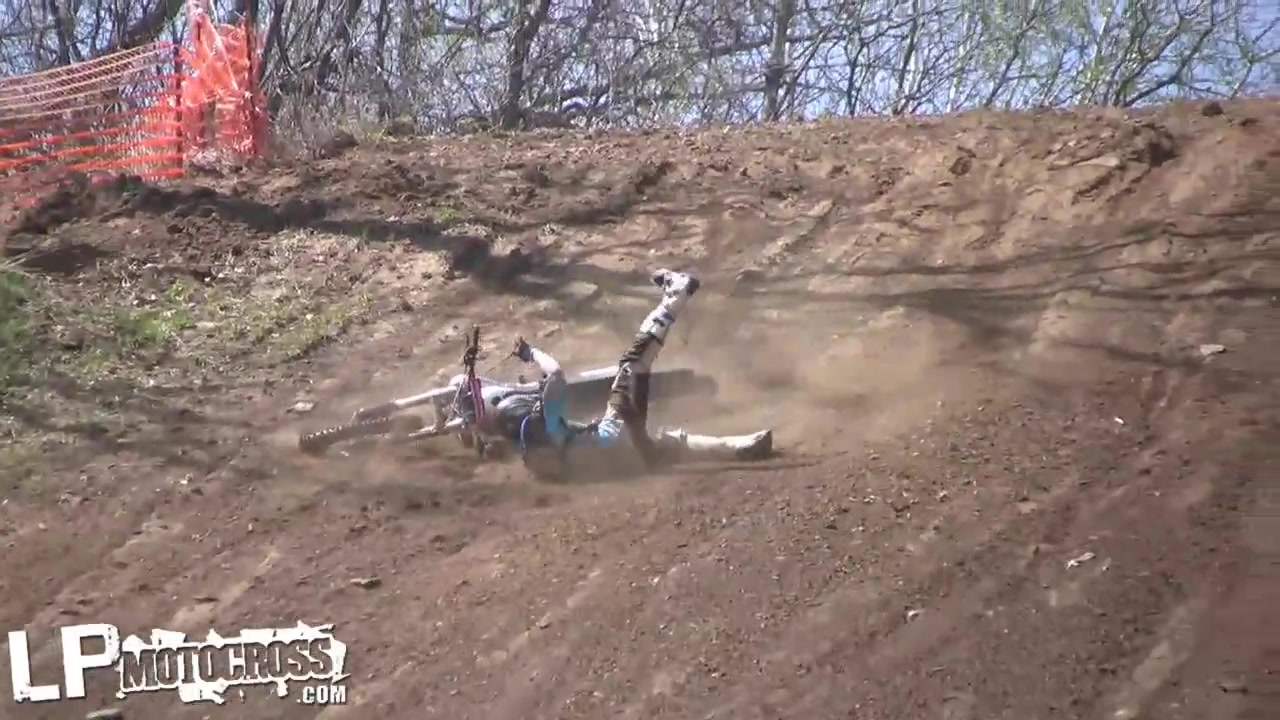motorbike: (297, 366, 740, 458)
